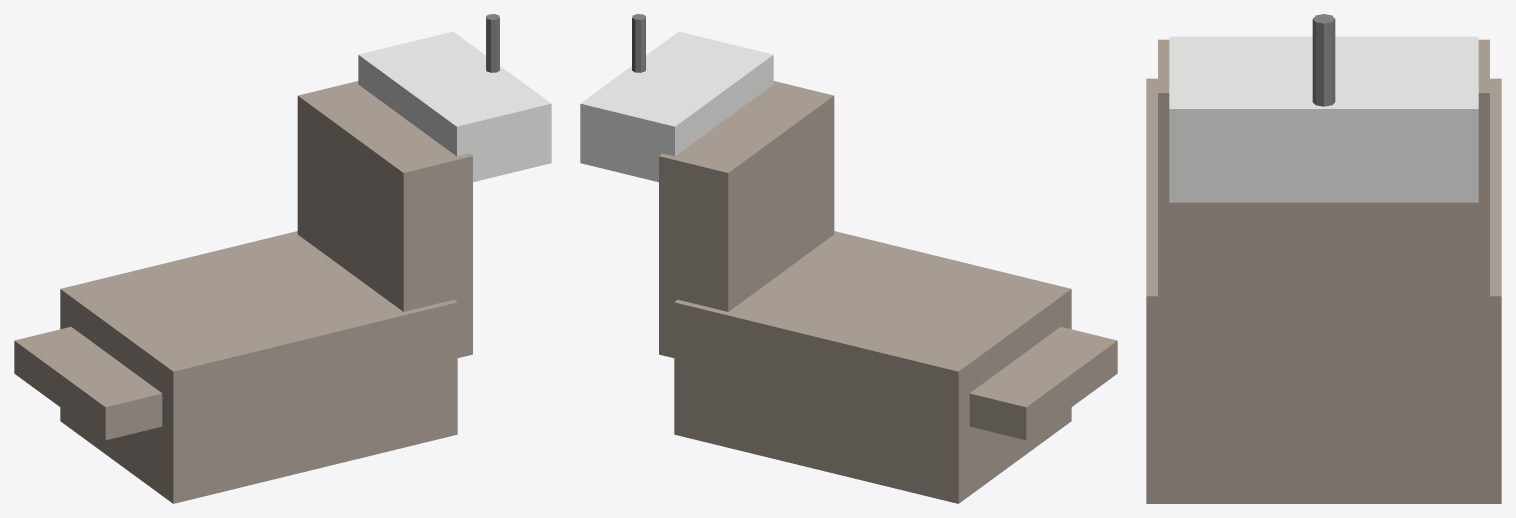
3 renders of one model, left to right at view 1: azimuth 30°, elevation 25°; view 2: azimuth 150°, elevation 25°; view 3: azimuth 270°, elevation 25°, orthographic. The views are drawn at different scales.
Visible parts, largest first — view 1: lavacabezas_2; view 2: lavacabezas_2; view 3: lavacabezas_2.
Boxes of the visible parts, box(x1,y1,x2,y2) form: lavacabezas_2: box(14, 14, 551, 503); lavacabezas_2: box(580, 14, 1117, 503); lavacabezas_2: box(1146, 14, 1501, 503).
Size of the model in its own units: 1.4 by 0.62 by 1.07.
